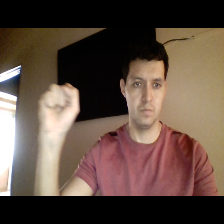9D: (34, 77, 81, 138)
